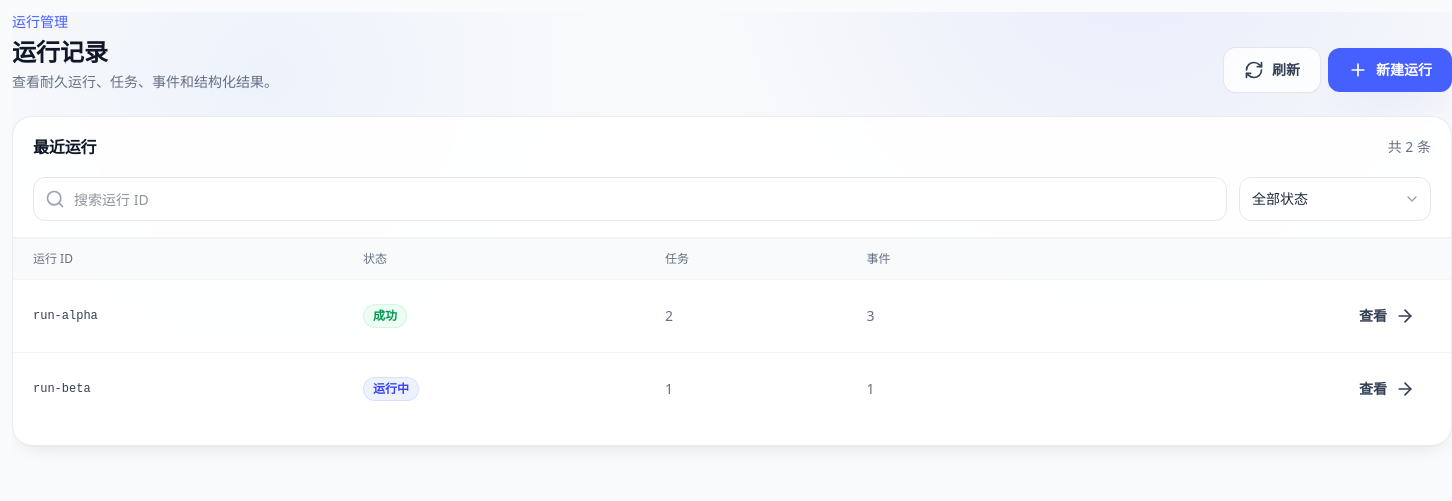
it: runs page filters › filters by run id search and status
The width and height of the screenshot is (1452, 501).
Expected: the heading "最近运行" is shown, [33,135,96,159]
In the field labelled "搜索运行 ID": (630, 199) [33,177,1227,221], type "beta"
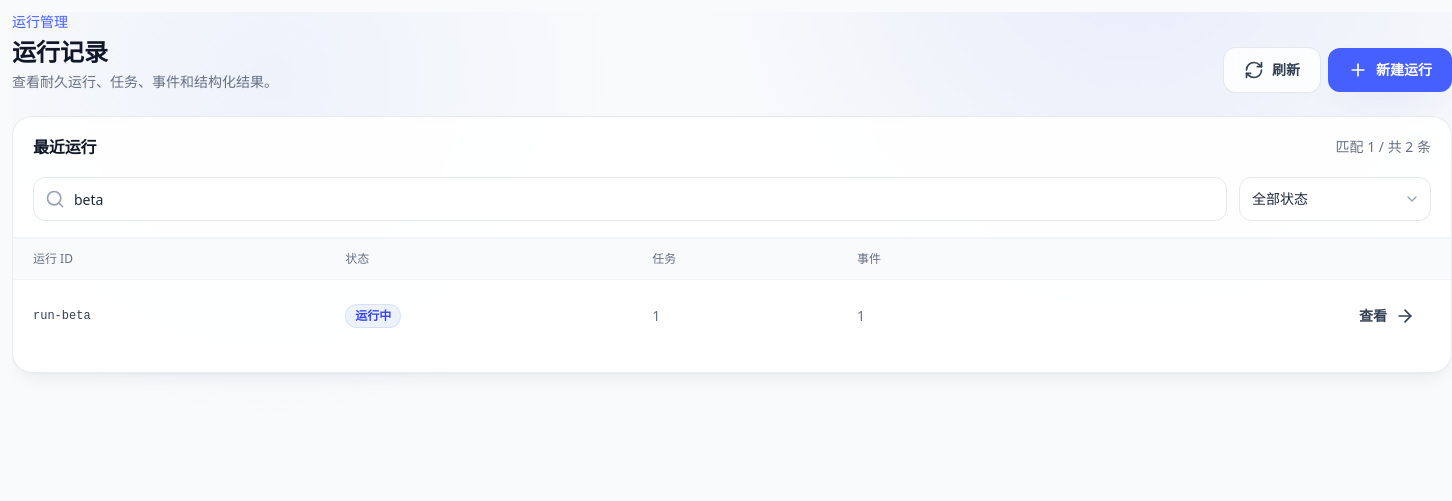
Expected: the text "匹配 1 / 共 2 条" is shown, [1336,137,1431,157]
Expected: the text "run-alpha" is not shown
Click the button with aria-label "按状态筛选": click(1335, 199) [1239,177,1431,221]
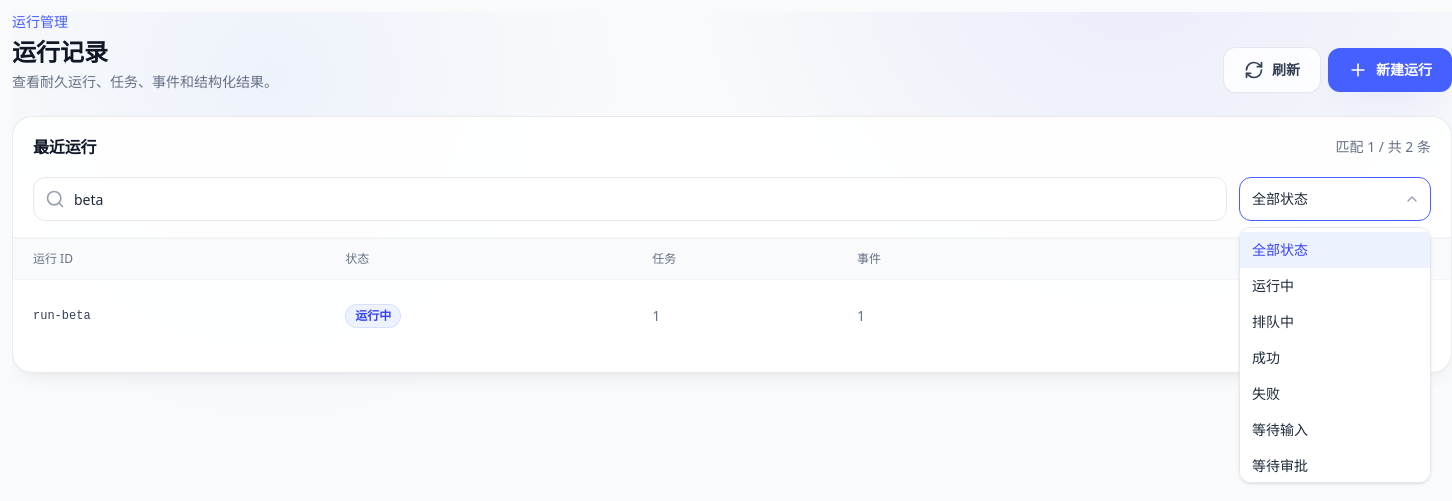
Click the option "成功": click(1335, 358) [1240,340,1430,376]
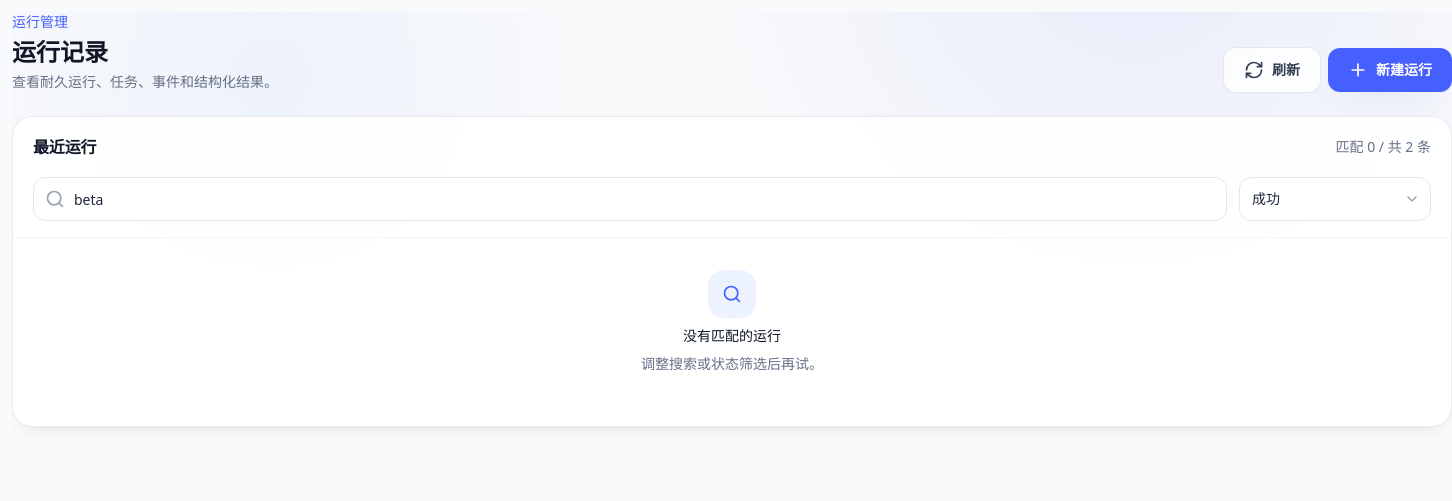
Expected: the heading "没有匹配的运行" is shown, [683,326,781,346]
Expected: the text "匹配 0 / 共 2 条" is shown, [1336,137,1431,157]
